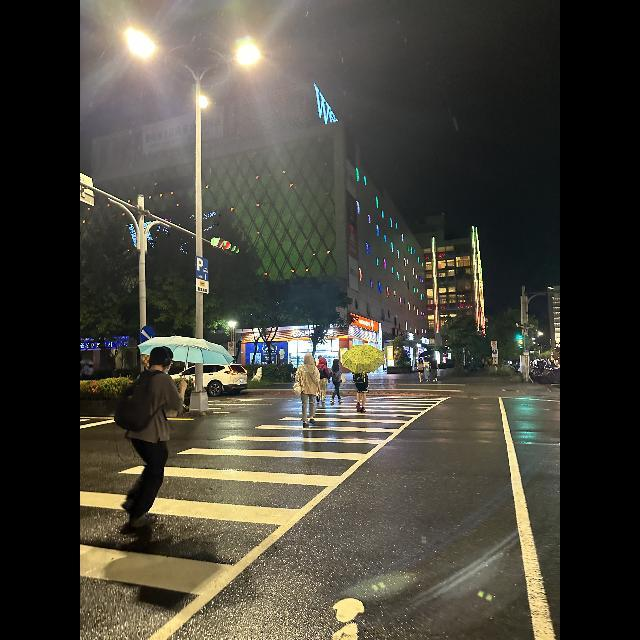sidewalk: (80, 390, 456, 640)
